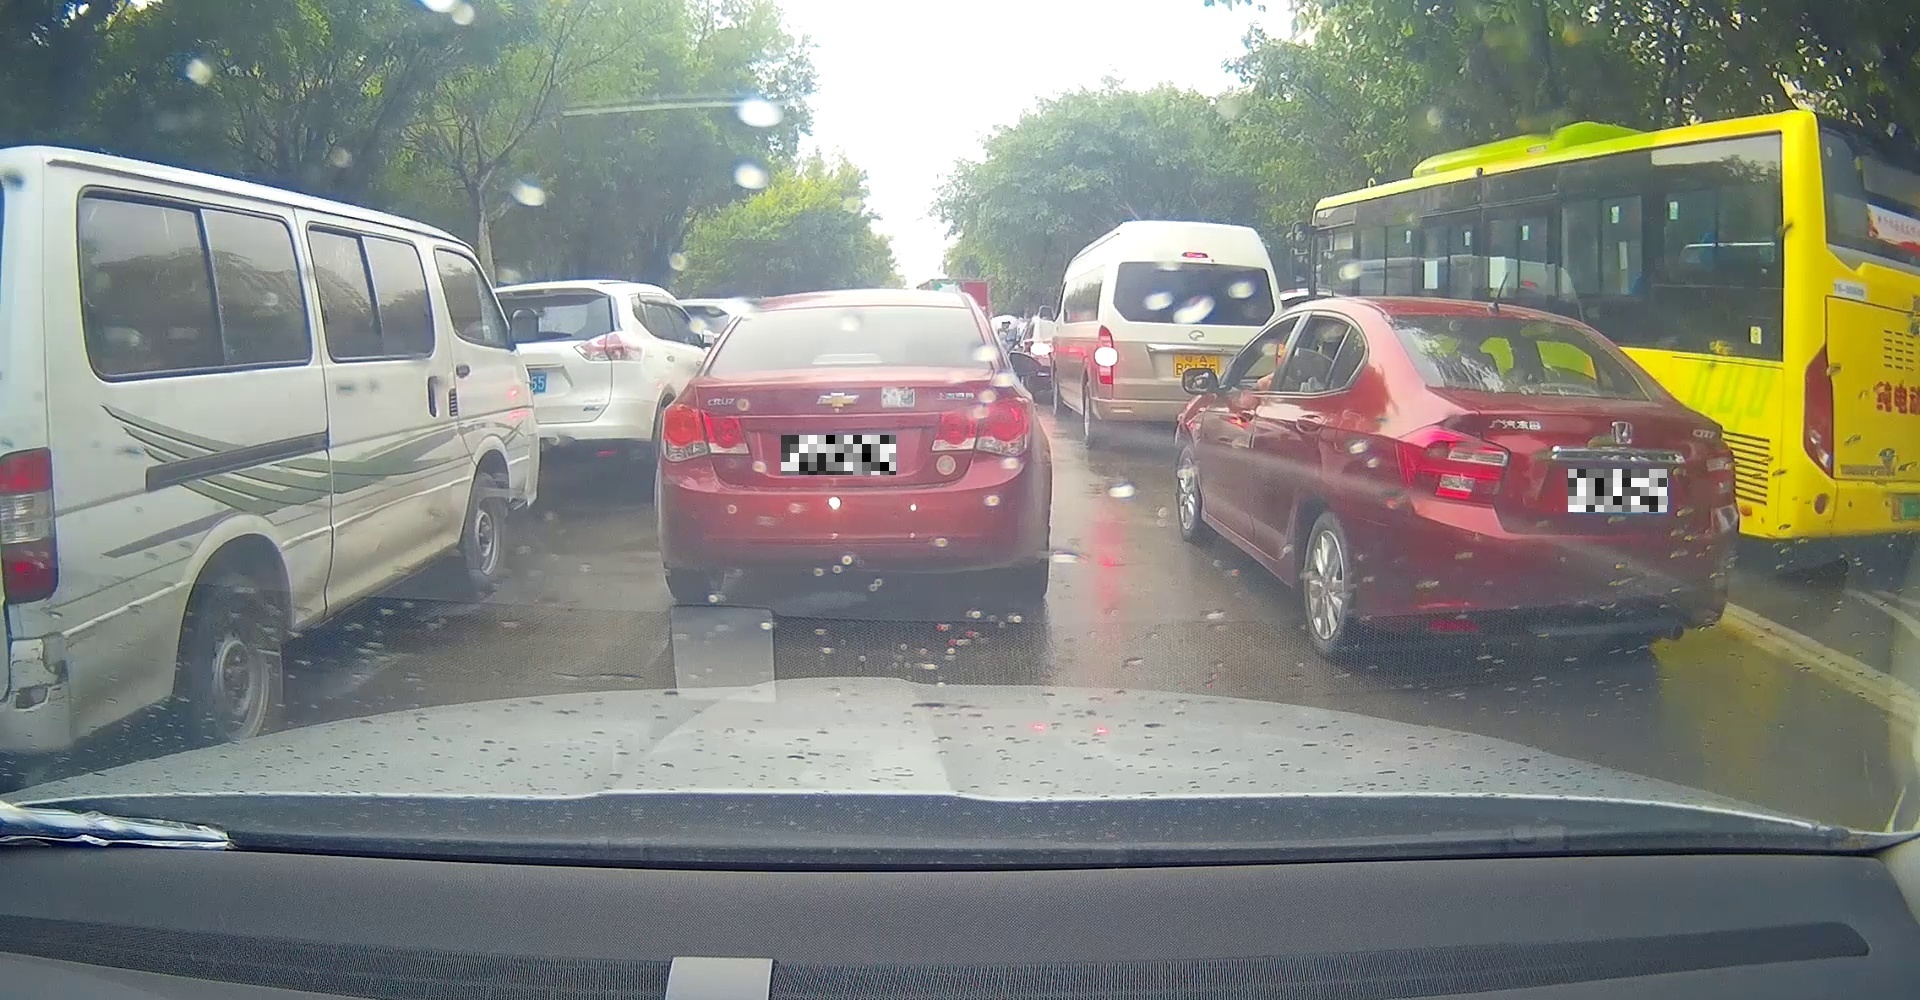L_light: (1396, 425, 1510, 497), (659, 404, 750, 461)
R_light: (933, 395, 1035, 456), (1703, 442, 1736, 505)
T_light: (811, 352, 883, 364), (1524, 383, 1597, 393)
day-no: (1371, 293, 1741, 659), (655, 287, 1053, 596)
plate_1: (781, 435, 897, 475)
plate_2: (1568, 470, 1669, 511)
